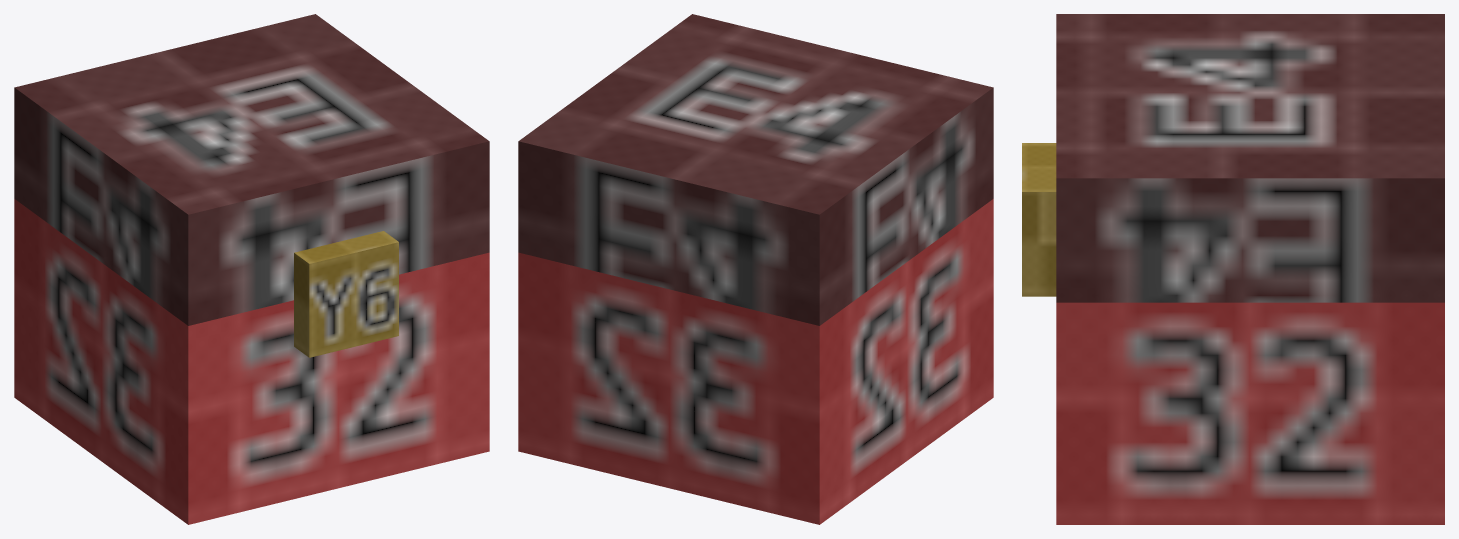
Rendered from truhe.glb.
3 views of the same model, side by side, from view 1: azimuth 30°, elevation 25°; view 2: azimuth 150°, elevation 25°; view 3: azimuth 270°, elevation 25° (orthographic). The views are drawn at different scales.
Parts seen in each view (by area): view 1: Cube.001, Truhe; view 2: Cube.001, Truhe; view 3: Cube.001, Truhe.
Part boxes in pixels (x1,y1,x2,y2): Cube.001: (14, 14, 489, 357); Truhe: (14, 199, 489, 524); Cube.001: (518, 14, 993, 325); Truhe: (518, 199, 993, 524); Cube.001: (1022, 14, 1444, 302); Truhe: (1056, 302, 1444, 524).
Size of the model in its own units: 2 by 1.97 by 2.18.
1 material, 1 textured.
